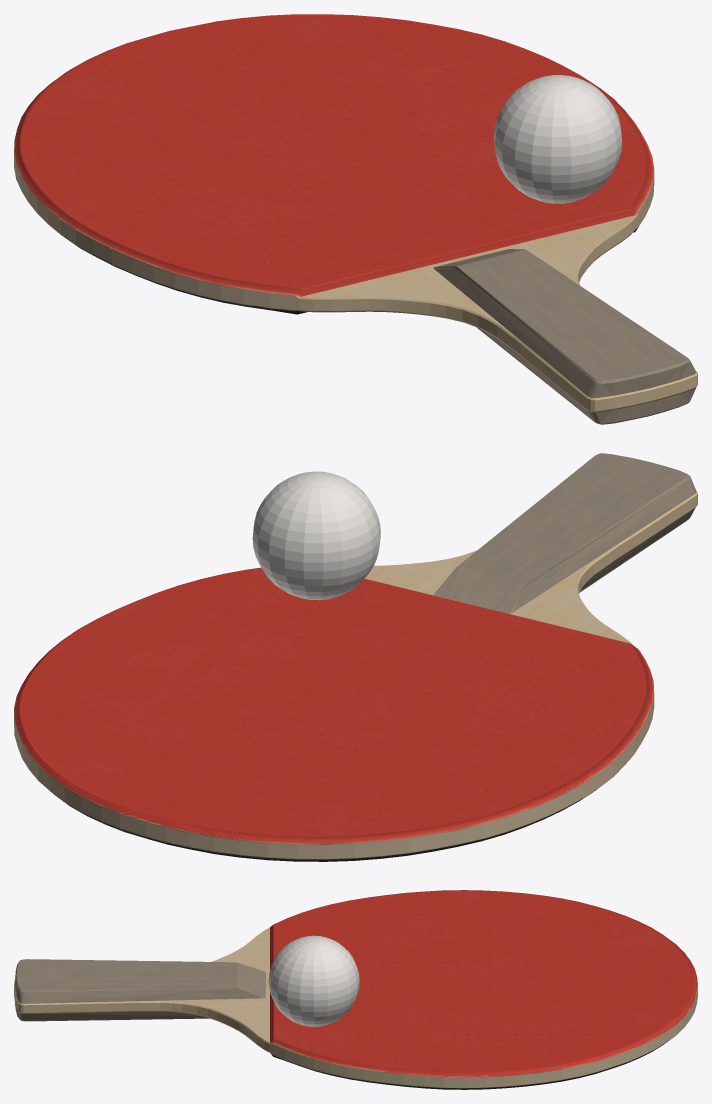
File: pingpong.gltf
3 renders of one model, top to bottom at view 1: azimuth 30°, elevation 25°; view 2: azimuth 150°, elevation 25°; view 3: azimuth 270°, elevation 25°, orthographic. The views are drawn at different scales.
Bounding box in the file's own units: 0.0337 × 0.00912 × 0.0523.
Materials: 1 (1 with a texture image).
